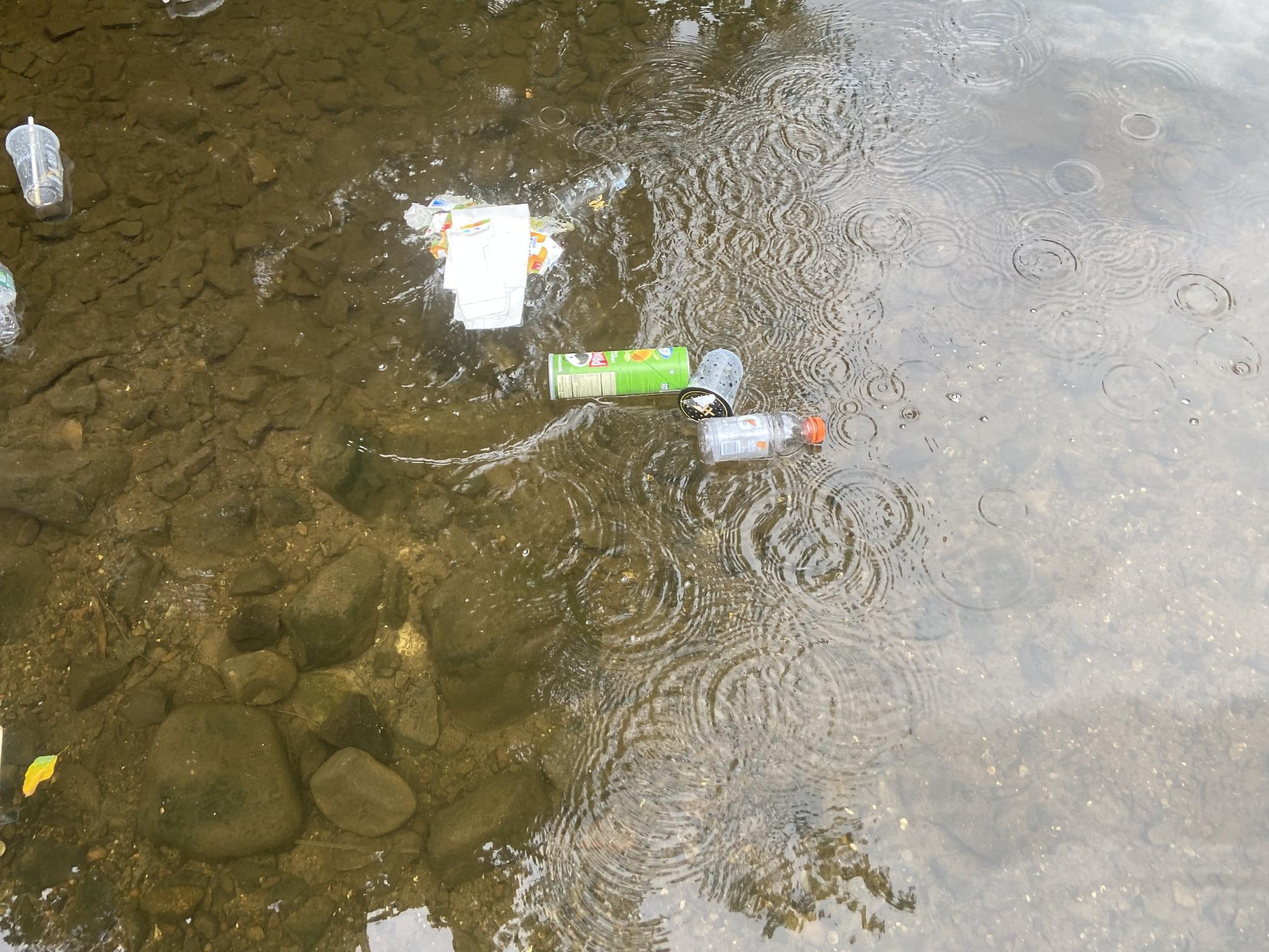cardboard: (676, 414, 759, 575)
metal: (541, 539, 612, 702)
paper: (614, 436, 757, 541)
plastic: (479, 688, 549, 832), (738, 1, 846, 70), (523, 669, 611, 750), (598, 0, 699, 24)
